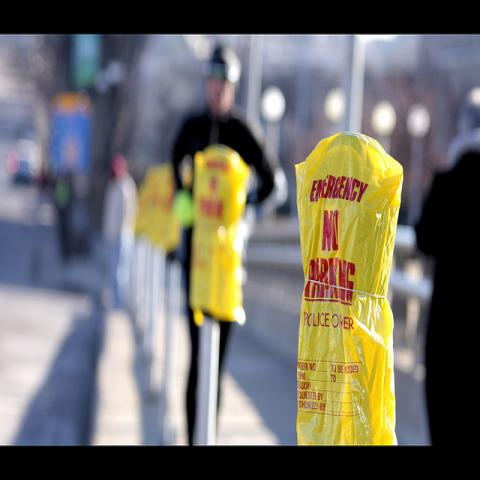car: (6, 133, 47, 183)
